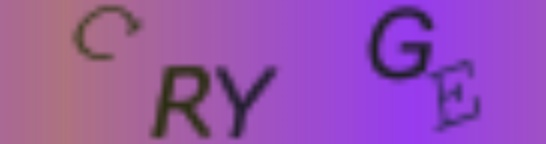C: (70, 1, 146, 66)
E: (428, 57, 485, 134)
G: (369, 7, 431, 82)
R: (150, 62, 217, 140)
Y: (210, 61, 280, 142)
